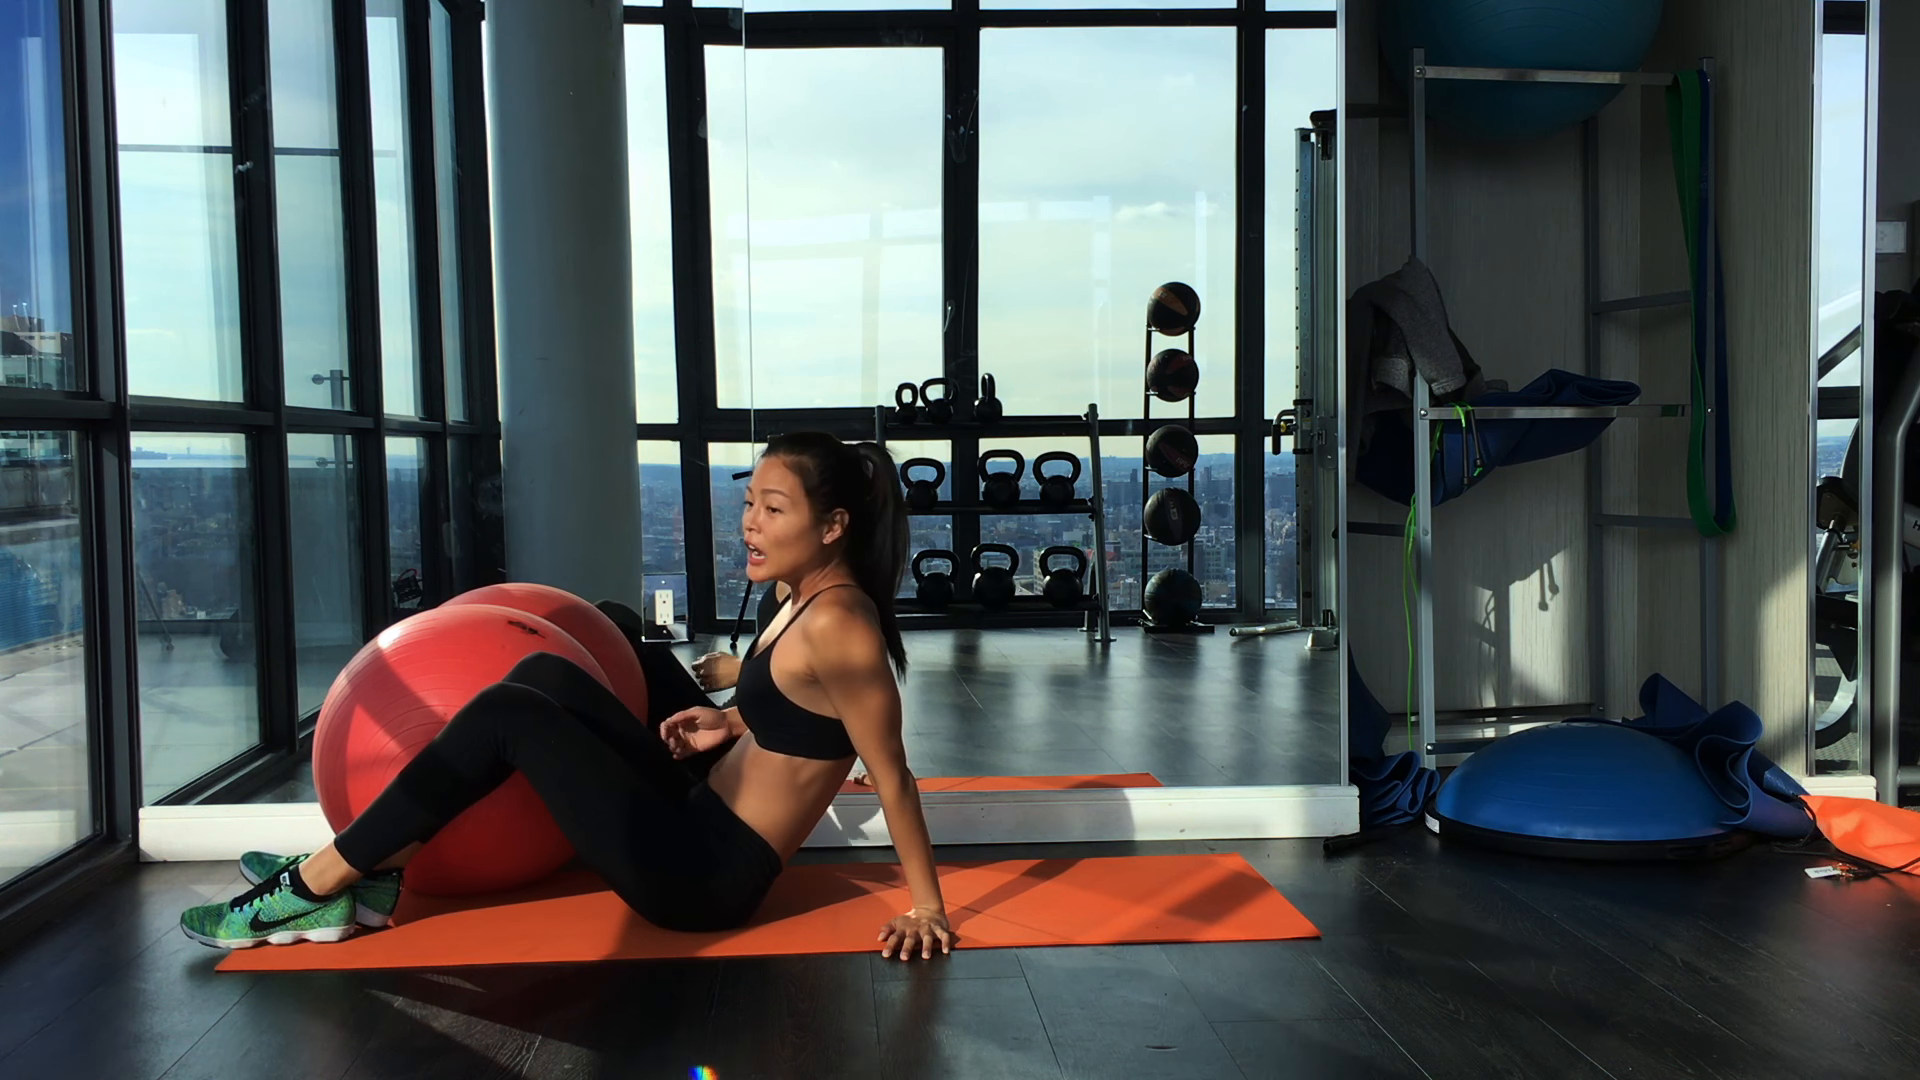yogaball: (309, 595, 633, 919)
